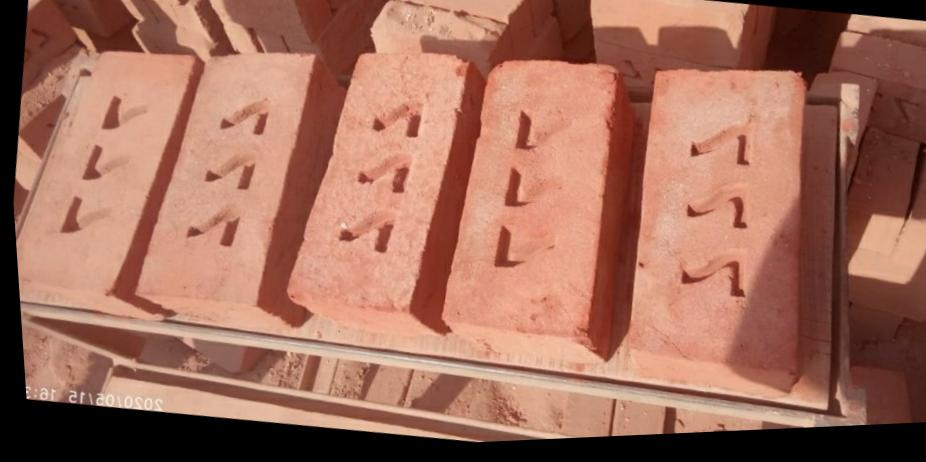brick: (610, 53, 841, 387), (420, 42, 635, 349), (269, 34, 481, 322), (119, 28, 330, 317), (3, 30, 211, 307)
